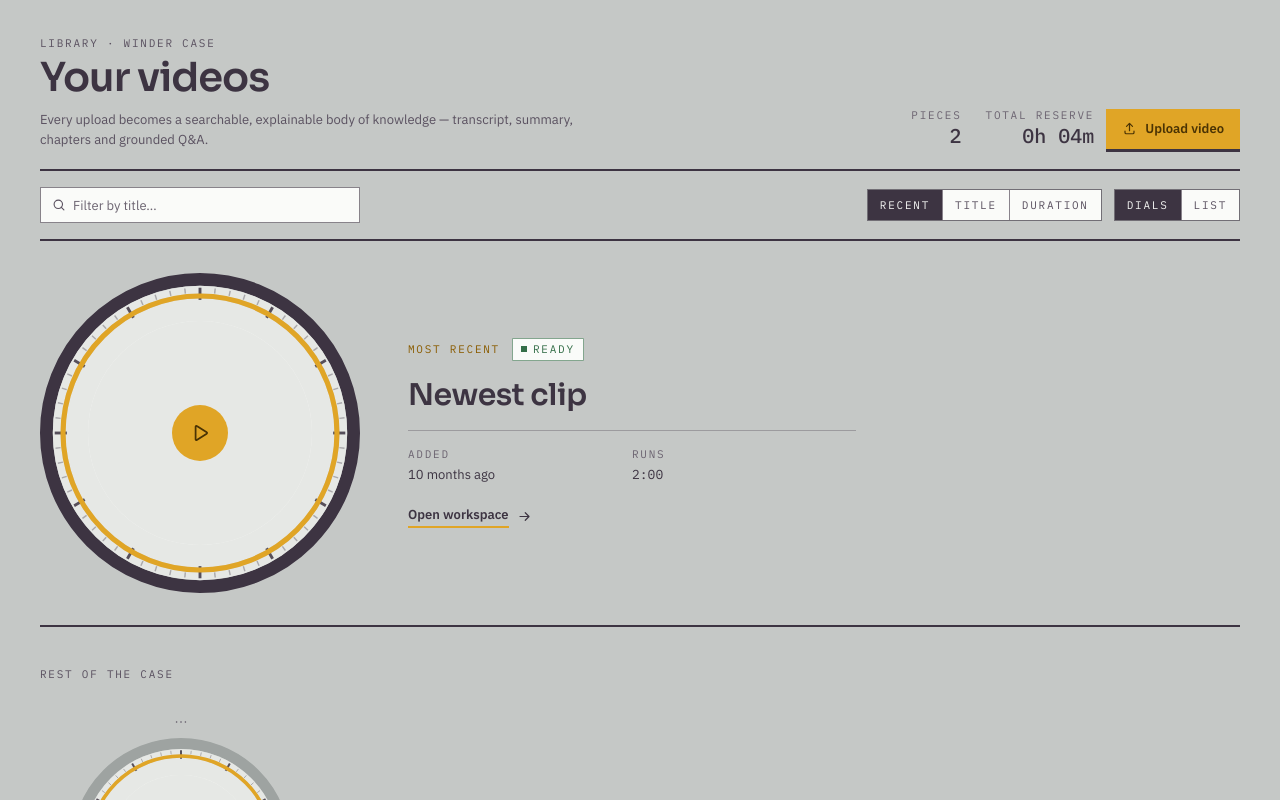
Test: LibraryPage - delete video › clears a previous error once the dialog is reopened for another video
What coordinates should you click on to do the following:
click the button named "video actions"
I would click on:
 (181, 722)
Its box is [165,706,197,738].
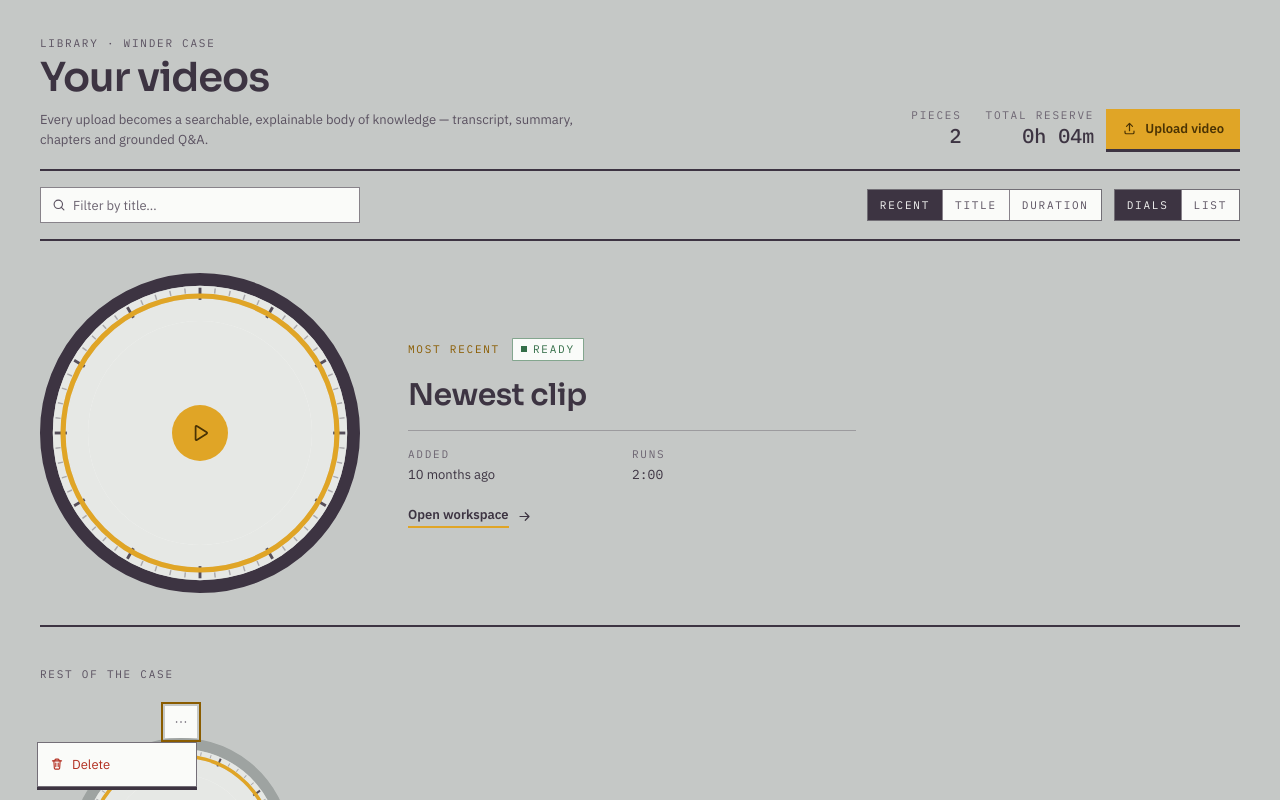
What coordinates should you click on to do the following:
click the menu item "Delete"
I would click on:
 (117, 764)
Its box is [38,747,196,782].
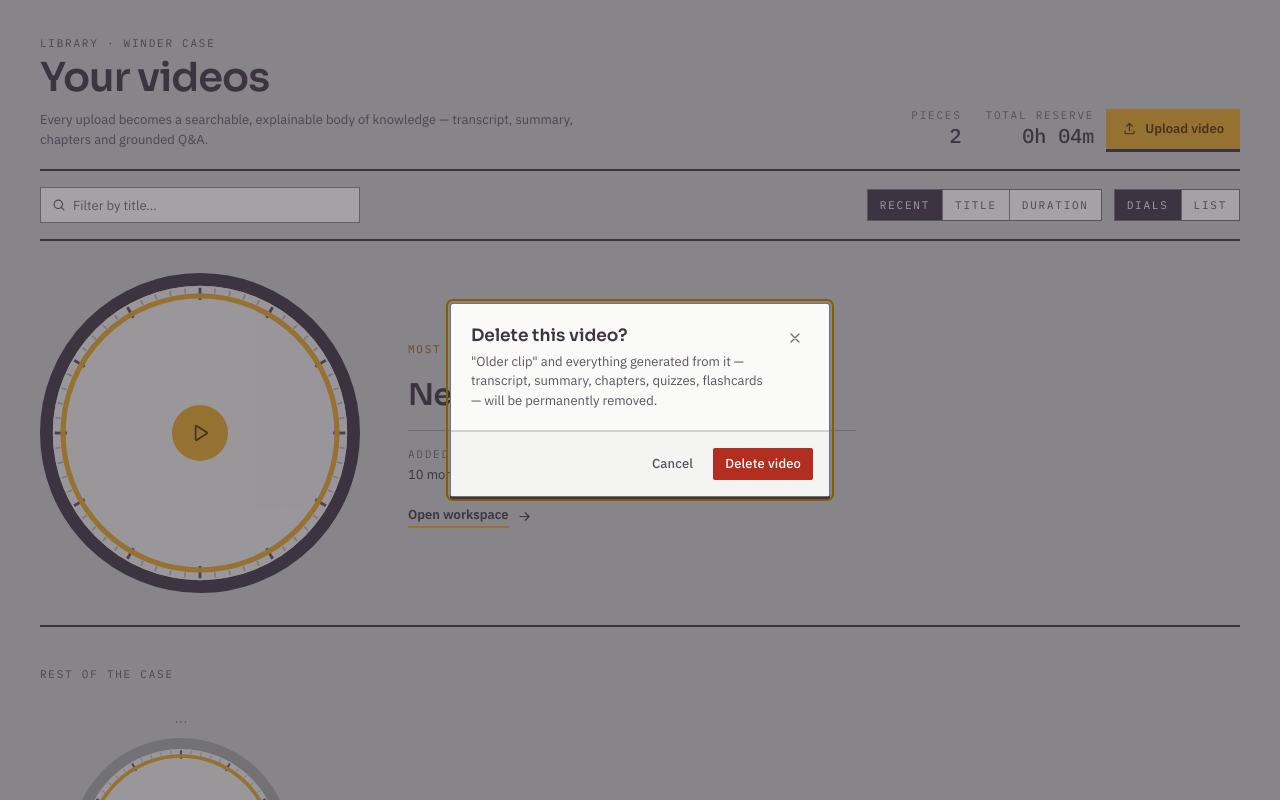
Expected: the dialog is shown, [450,303,830,497]
What coordinates should you click on to do the following:
click the button "Delete video"
I would click on:
 (763, 464)
Its box is [713,448,813,480].
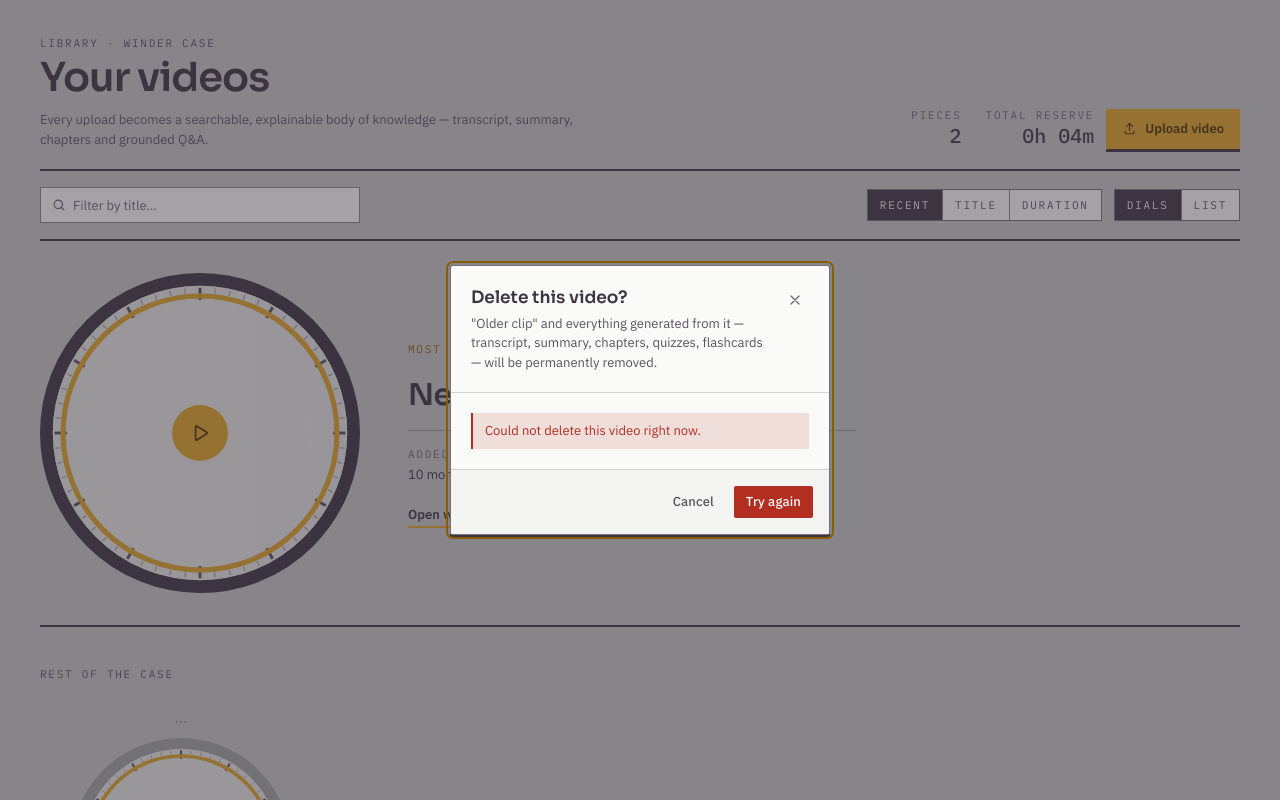
Expected: the message "Could not delete this video right now." is shown, [471,413,809,449]
What coordinates should you click on to do the following:
click the button "Cancel"
I would click on:
 (693, 502)
Its box is [661,486,726,518].
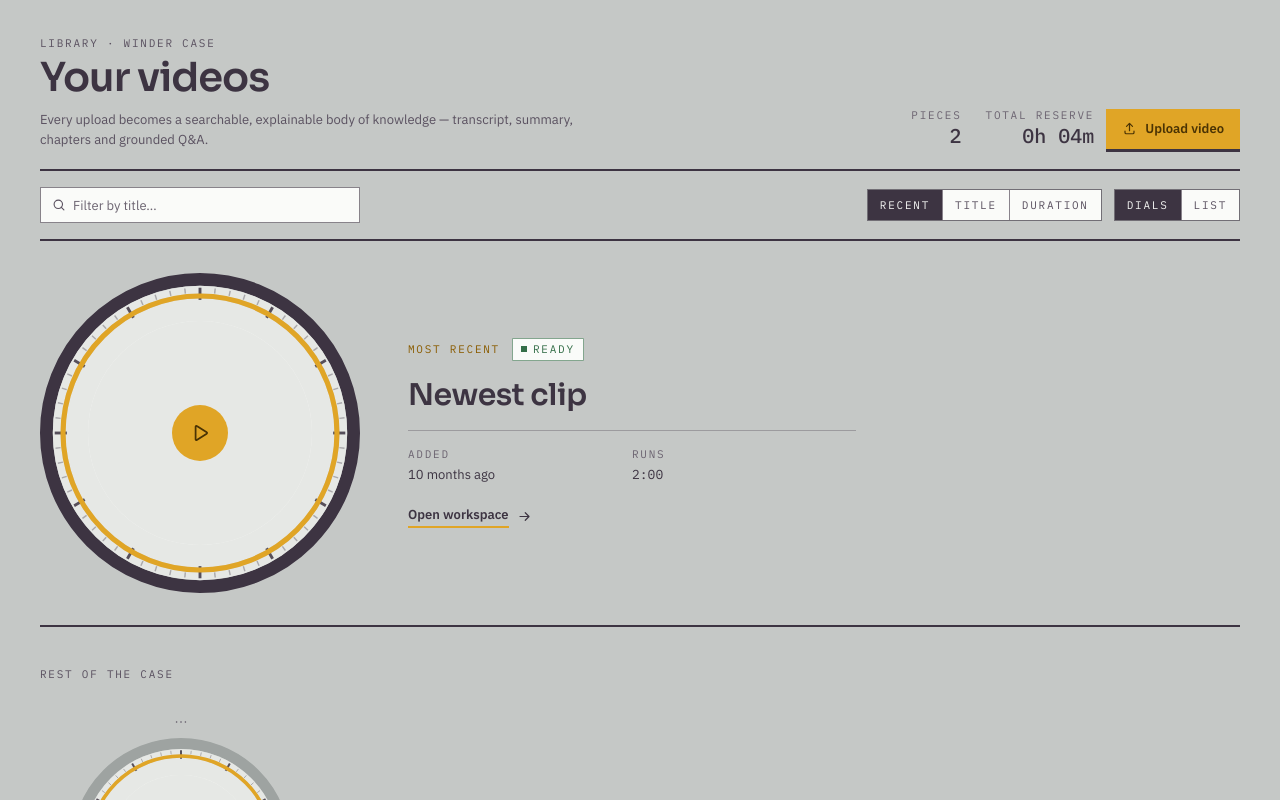
Expected: the dialog is gone
What coordinates should you click on to do the following:
click the button named "video actions"
I would click on:
 (181, 722)
Its box is [165,706,197,738].
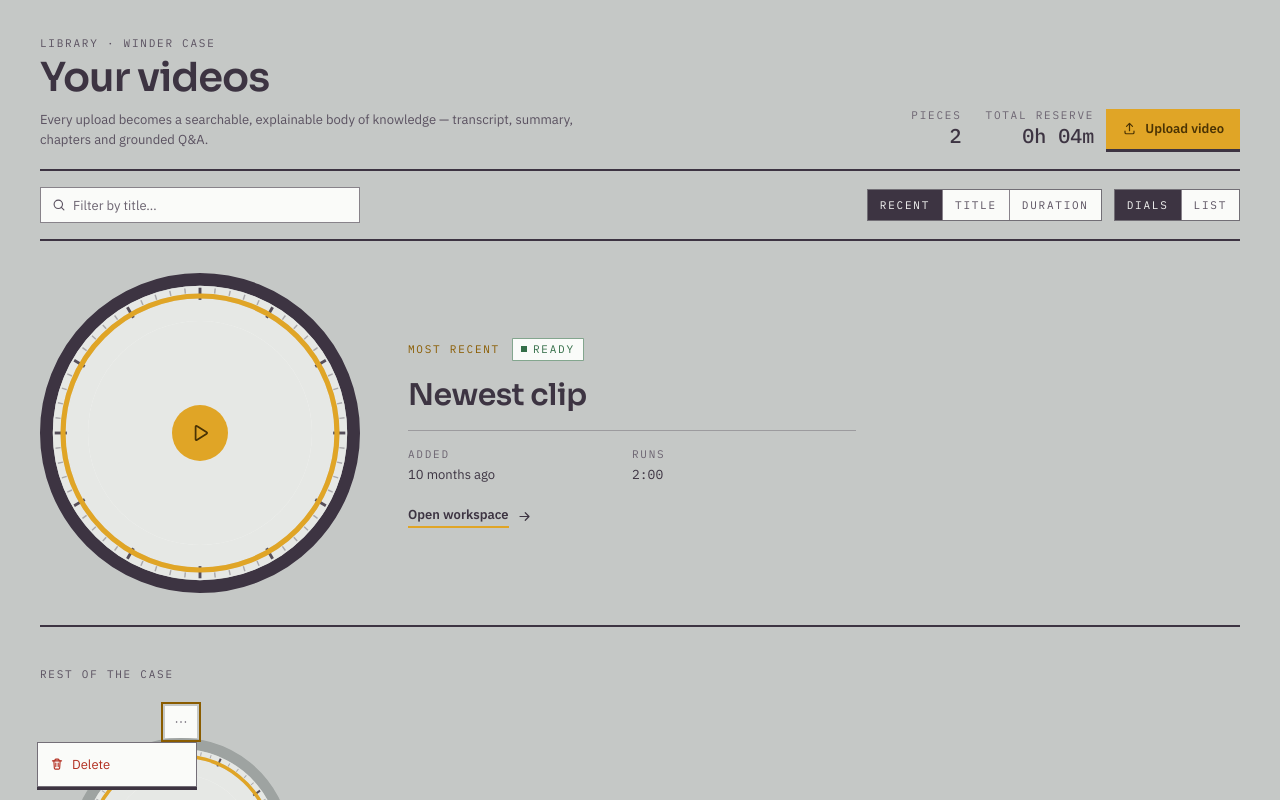
What coordinates should you click on to do the following:
click the menu item "Delete"
I would click on:
 (117, 764)
Its box is [38,747,196,782].
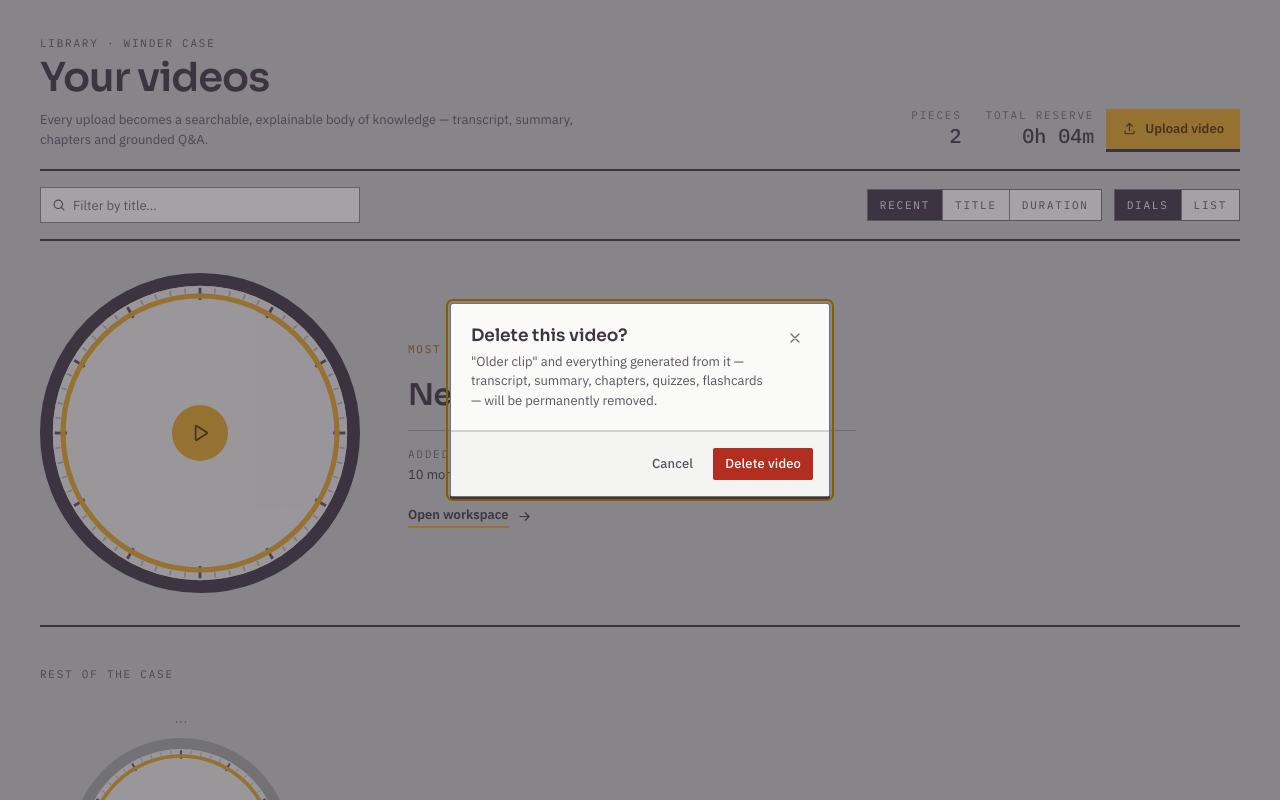
Expected: the message "Could not delete this video right now." is not shown
Expected: the dialog is shown, [450,303,830,497]
